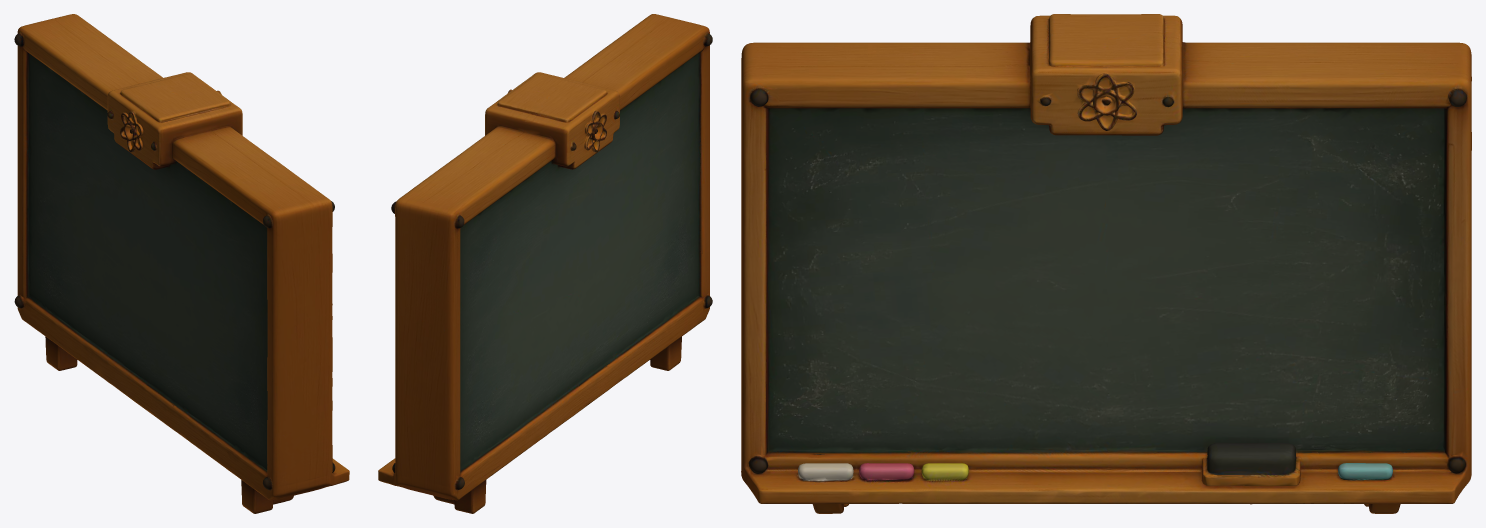
The model's file is board.glb.
The picture shows the model from 3 angles, left to right: view 1: azimuth 30°, elevation 25°; view 2: azimuth 150°, elevation 25°; view 3: azimuth 270°, elevation 25°; orthographic projection. The views are drawn at different scales.
Visible parts, largest first — view 1: board; view 2: board; view 3: board.
Boxes of the visible parts, x1,y1,x2,y2 form: board: (14, 14, 349, 513); board: (378, 14, 712, 513); board: (741, 14, 1471, 513).
Size of the model in its own units: 0.2192 by 0.7176 by 1.
1 material, 1 textured.
